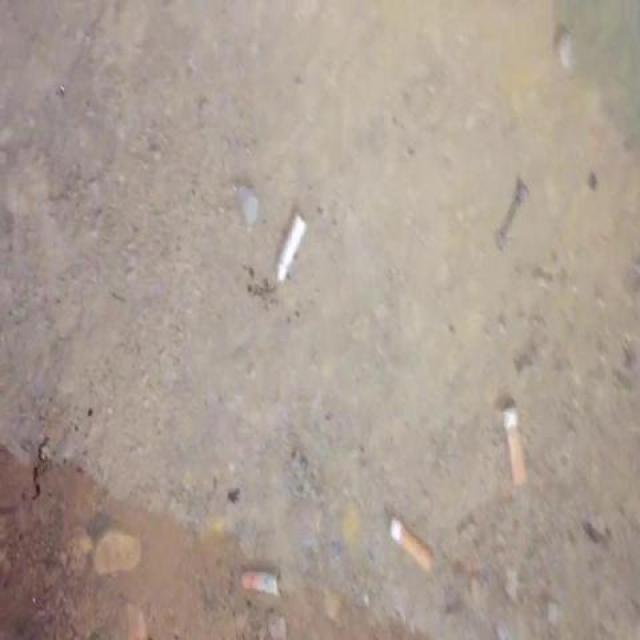non-organic waste: (386, 513, 442, 578), (497, 400, 534, 492), (268, 208, 308, 288)
